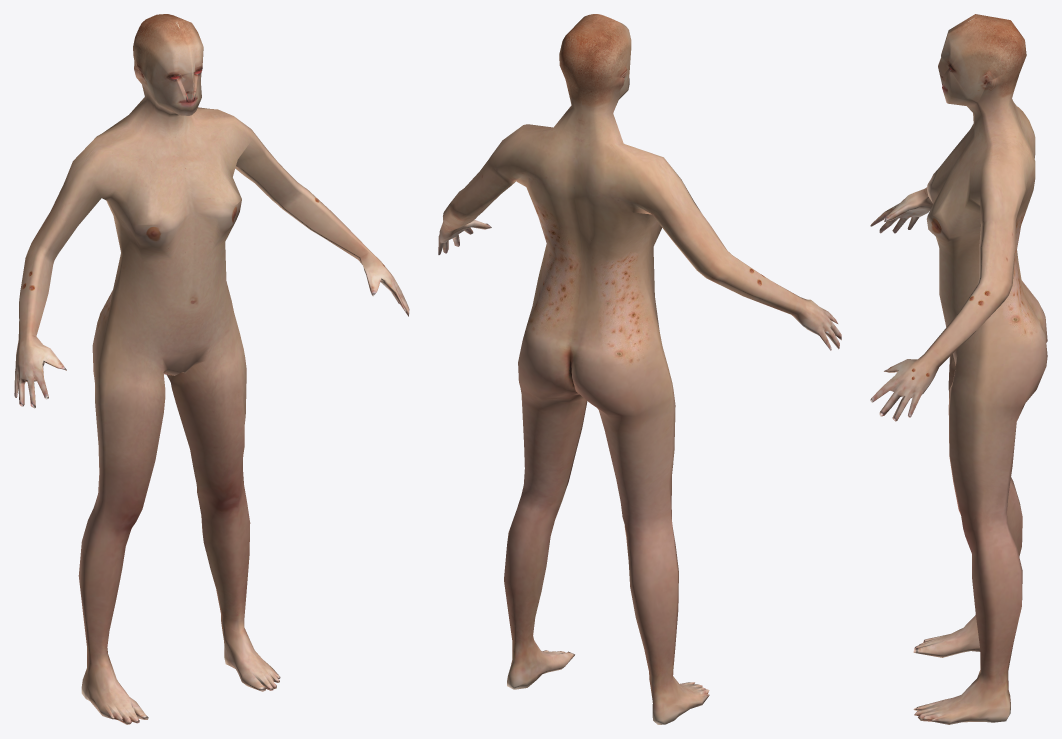
File: girl body.fbx
3 renders of one model, left to right at view 1: azimuth 30°, elevation 25°; view 2: azimuth 150°, elevation 25°; view 3: azimuth 270°, elevation 25°, orthographic. The views are drawn at different scales.
Parts seen in each view (by area): view 1: girl_Body; view 2: girl_Body; view 3: girl_Body.
Boxes of the visible parts, box(x1,y1,x2,y2) form: girl_Body: box(14, 14, 409, 724); girl_Body: box(438, 14, 841, 724); girl_Body: box(870, 14, 1047, 724).
Size of the model in its own units: 0.9761 by 1.6 by 0.3853.
